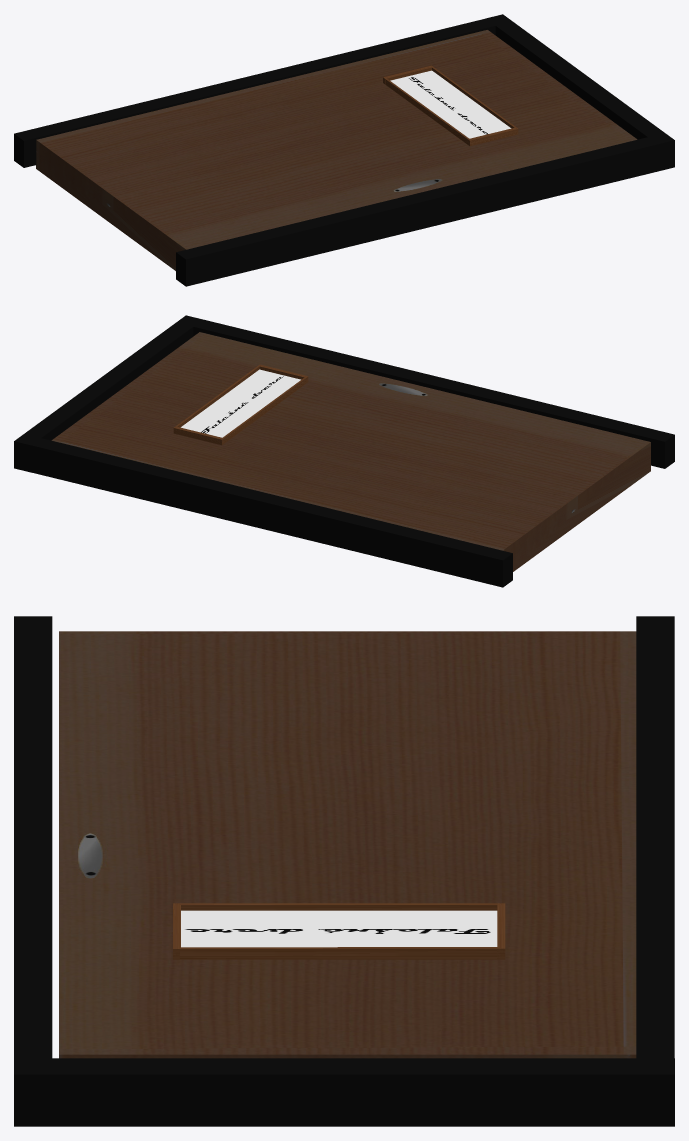
Rendered from dvere.fbx.
3 views of the same model, one above another, from view 1: azimuth 30°, elevation 25°; view 2: azimuth 150°, elevation 25°; view 3: azimuth 270°, elevation 25° (orthographic). The views are drawn at different scales.
Visible parts, largest first — view 1: polySurface11; view 2: polySurface11; view 3: polySurface11.
Part boxes in pixels (<box>): polySurface11: <box>14,14,674,286</box>; polySurface11: <box>14,315,674,587</box>; polySurface11: <box>14,616,674,1126</box>.
Bounding box in the file's own units: 2.09 × 0.1644 × 1.27.
